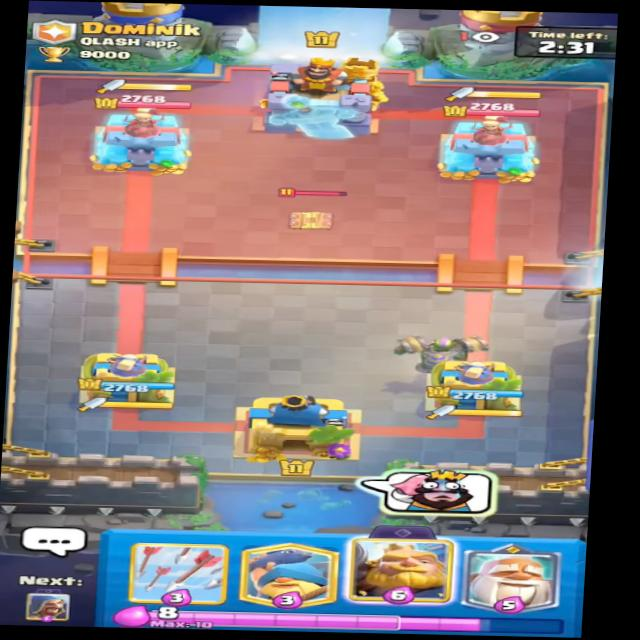tesla-closed: (266, 181, 361, 235)
